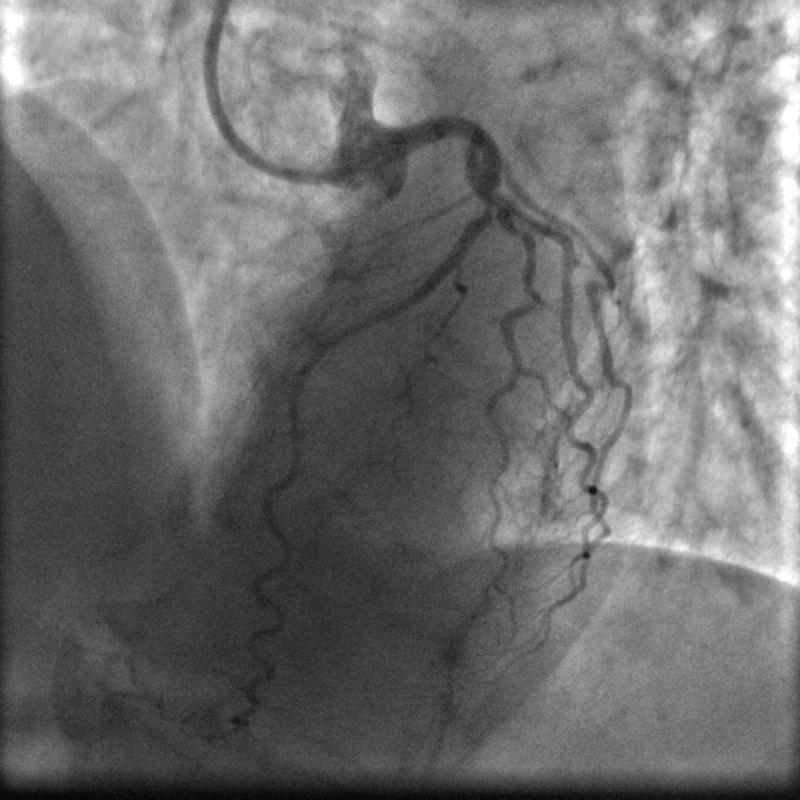Stenosis: (478, 197, 500, 219)
